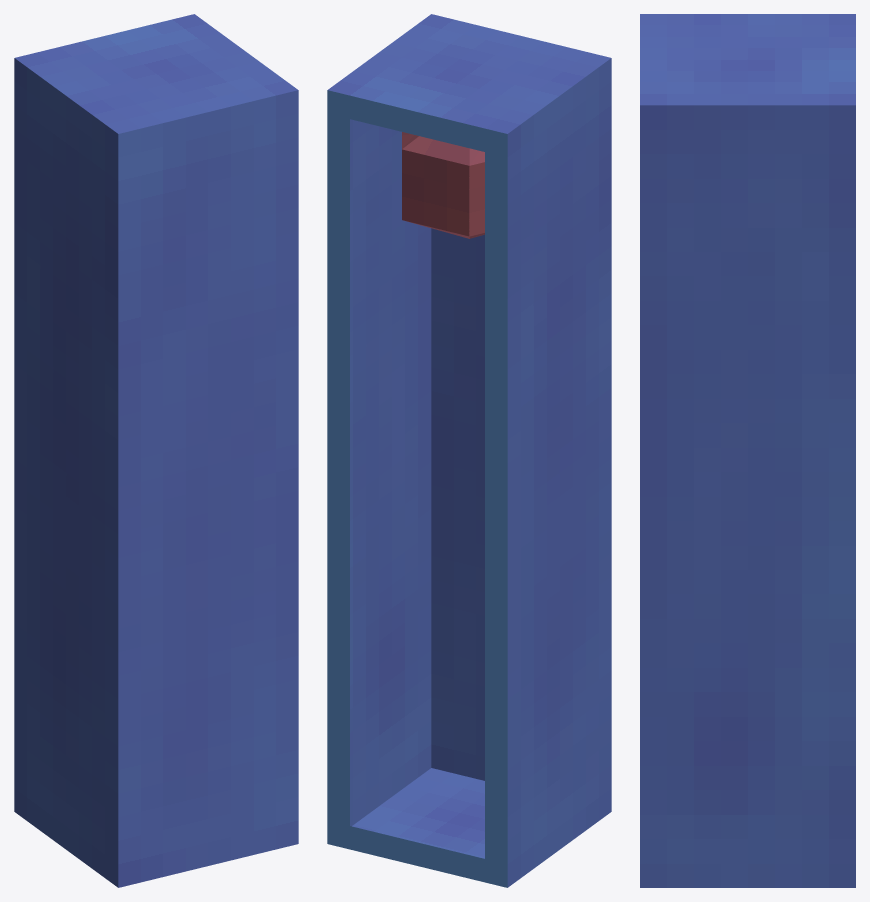
File: gravity_switch.gltf
3 renders of one model, left to right at view 1: azimuth 30°, elevation 25°; view 2: azimuth 150°, elevation 25°; view 3: azimuth 270°, elevation 25°, orthographic. The views are drawn at different scales.
Parts seen in each view (by area): view 1: Base; view 2: Base, GravitySphere; view 3: Base.
Boxes of the visible parts, left/top/right/bottom form: Base: left=14, top=14, right=298, bottom=887; Base: left=327, top=14, right=611, bottom=887; GravitySphere: left=402, top=132, right=484, bottom=238; Base: left=640, top=14, right=855, bottom=887.
Bounding box in the file's own units: 0.125 × 0.5 × 0.125.
Materials: 1 (1 with a texture image).
